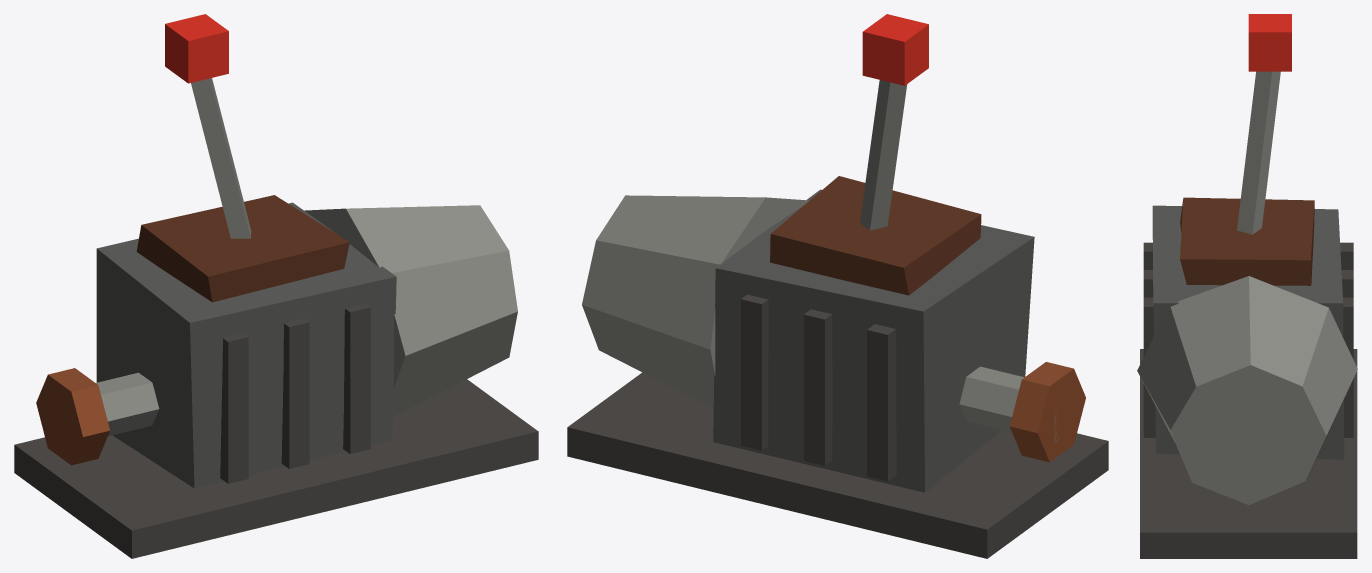
File: transmission.glb
The picture shows the model from 3 angles, left to right: view 1: azimuth 30°, elevation 25°; view 2: azimuth 150°, elevation 25°; view 3: azimuth 270°, elevation 25°; orthographic projection. The views are drawn at different scales.
Parts seen in each view (by area): view 1: transmission; view 2: transmission; view 3: transmission.
Part boxes in pixels (x1=…): transmission: x1=14, y1=14, x2=538, y2=558; transmission: x1=567, y1=14, x2=1108, y2=558; transmission: x1=1137, y1=14, x2=1357, y2=558.
Size of the model in its own units: 0.6239 by 0.63 by 0.3049.
